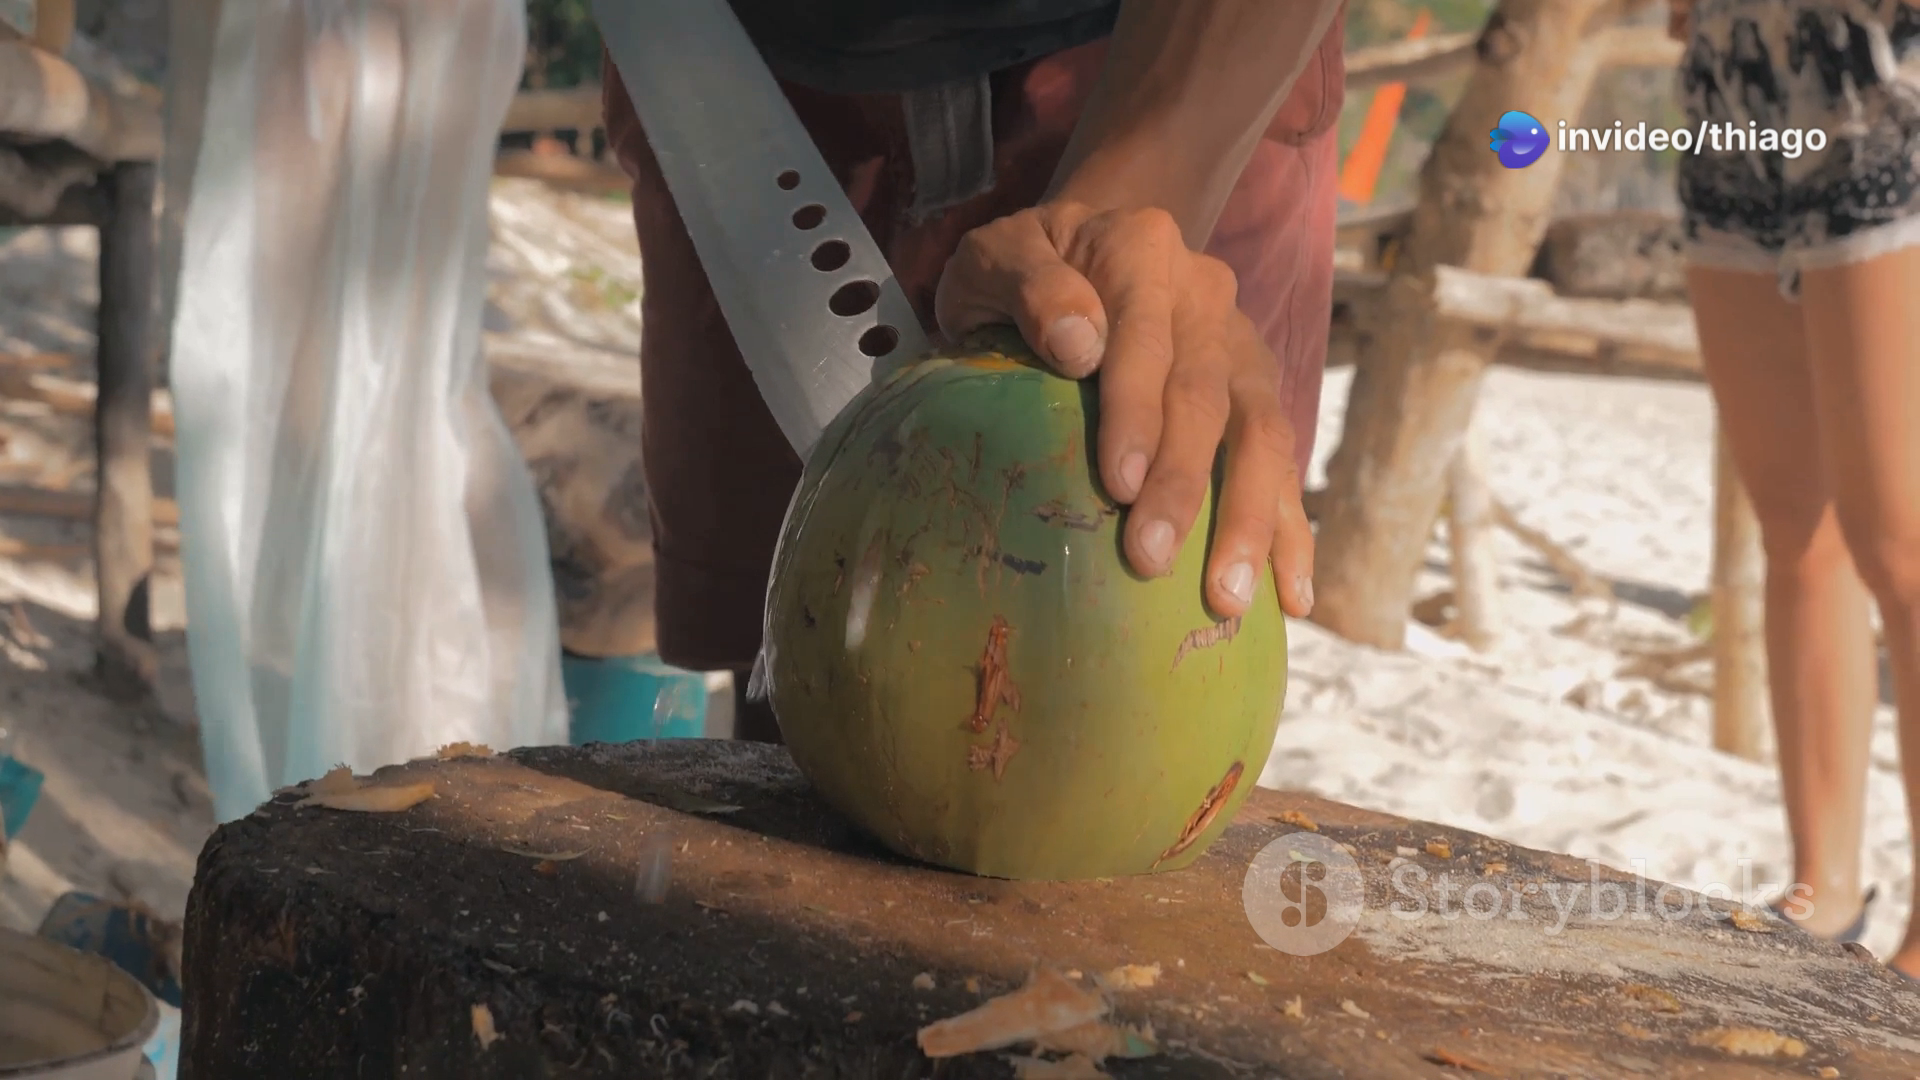cortante: (588, 0, 945, 473)
